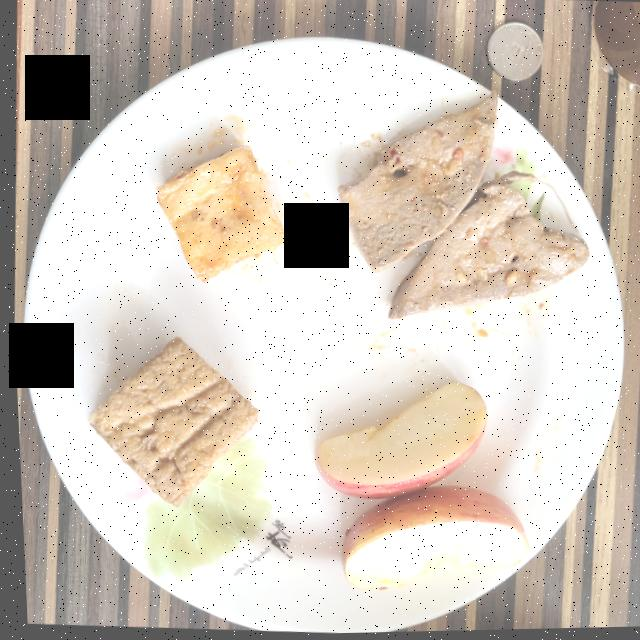apple -sliced-: (312, 384, 523, 591)
coin: (486, 25, 541, 83)
creamy tofu: (154, 147, 284, 283)
egg tofu: (84, 338, 254, 508)
pig liver: (337, 95, 585, 320)
